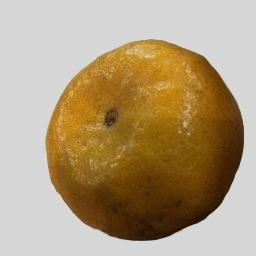Ripe: (48, 39, 246, 237)
